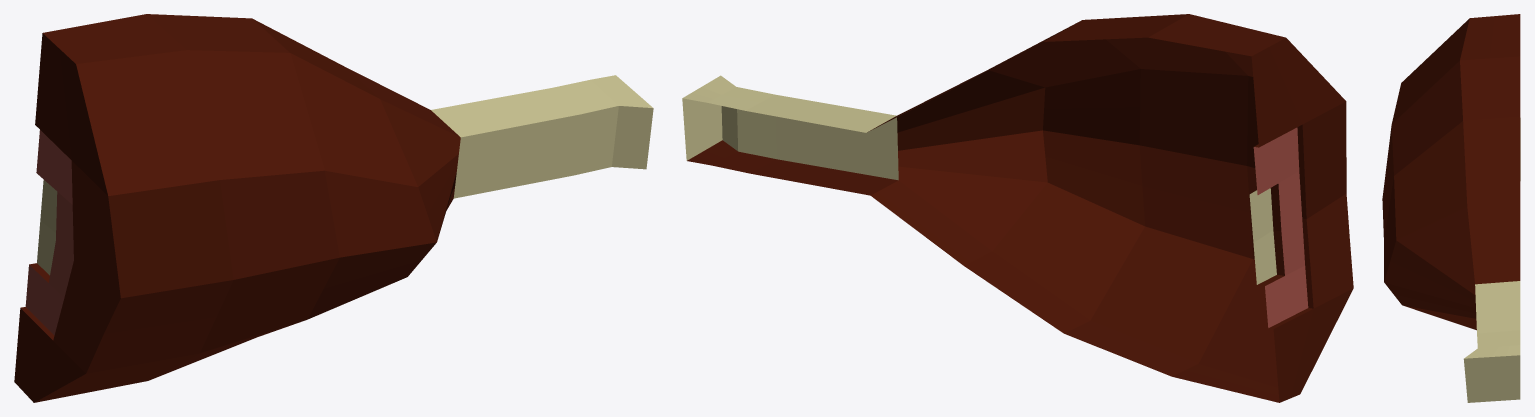
Rendered from ham.glb.
The picture shows the model from 3 angles, left to right: view 1: azimuth 30°, elevation 25°; view 2: azimuth 150°, elevation 25°; view 3: azimuth 270°, elevation 25°; orthographic projection. The views are drawn at different scales.
Visible parts, largest first — view 1: Plane; view 2: Plane; view 3: Plane.
Part boxes in pixels (x1,y1,x2,y2): Plane: (14, 14, 653, 402); Plane: (682, 14, 1353, 402); Plane: (1382, 14, 1520, 402).
Size of the model in its own units: 2.51 by 1.38 by 0.673.
